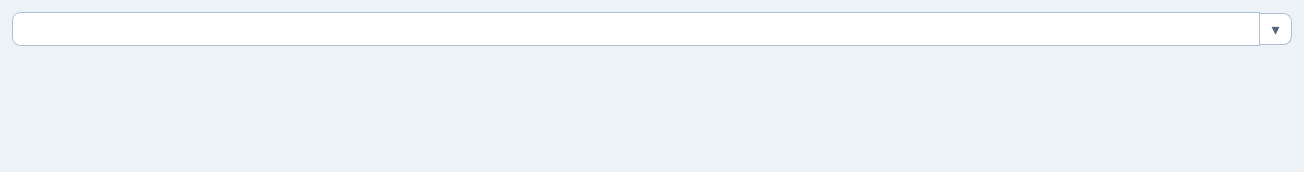
Test: allows direct editing and offers list controls when there are no fixed options
Click the button named "Показать сохранённые варианты: Показание" at (1276, 29), box [1260,13,1292,45]
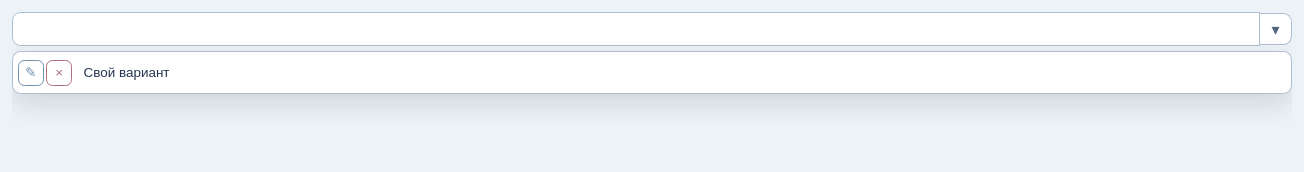
Click the button "Свой вариант" at (127, 73), box [75,57,1276,89]
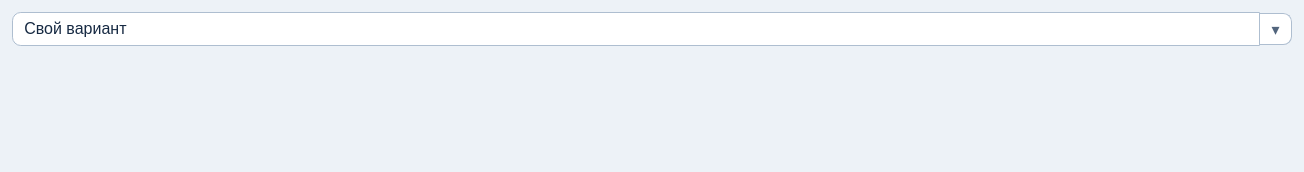
Replace the text in the field named "Показание" with "Изменённый вариант" at (636, 29), box [12,12,1260,46]
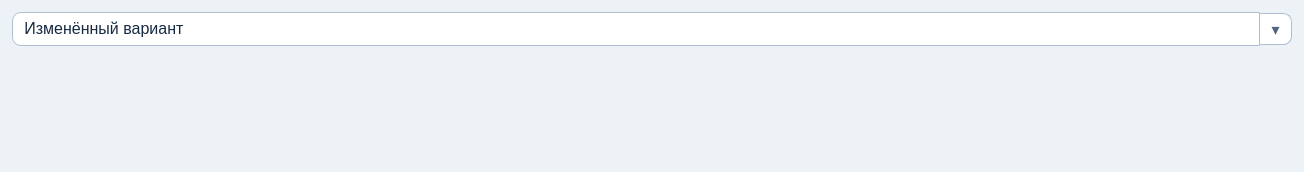
Click the button named "Показать сохранённые варианты: Показание" at (1276, 29), box [1260,13,1292,45]
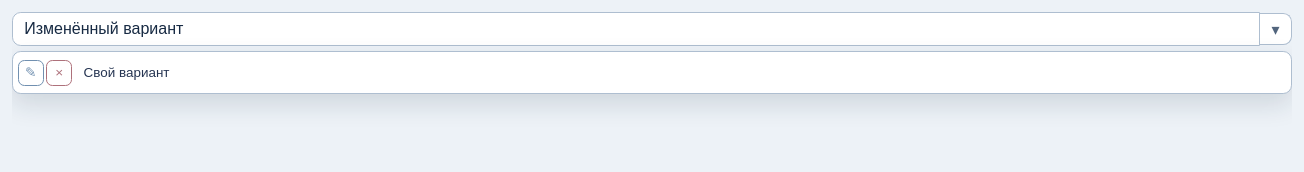
Check: the button named "Изменить значение" is shown, box [18,60,44,86]
Check: the button named "Удалить значение" is shown, box [46,60,72,86]
